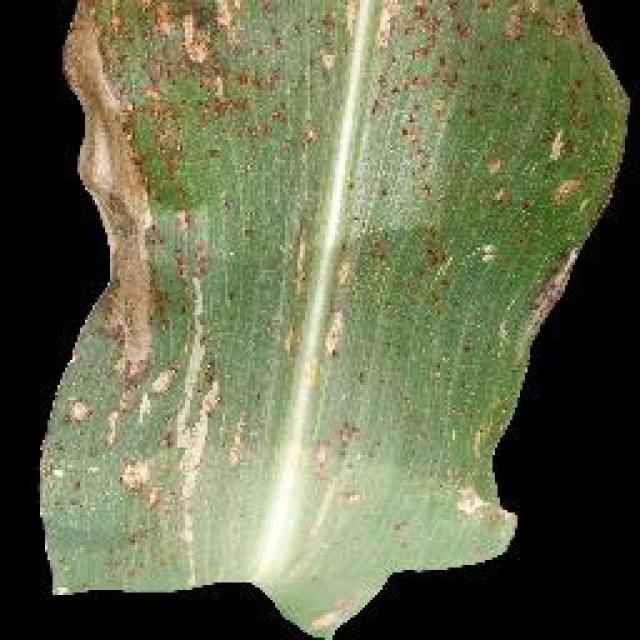Corn Common Rust: (125, 128, 523, 520)
